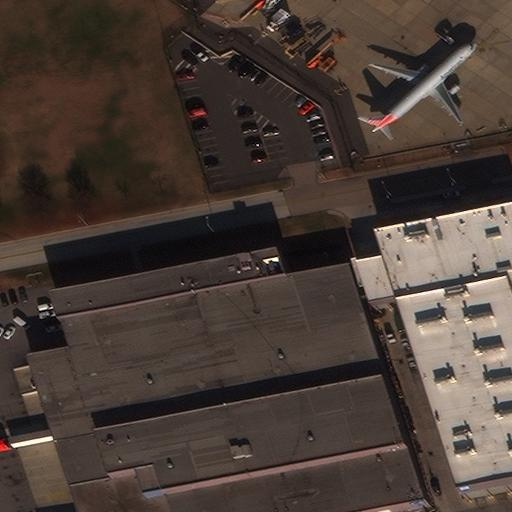Medium Civil Transport: (371, 41, 477, 131)
